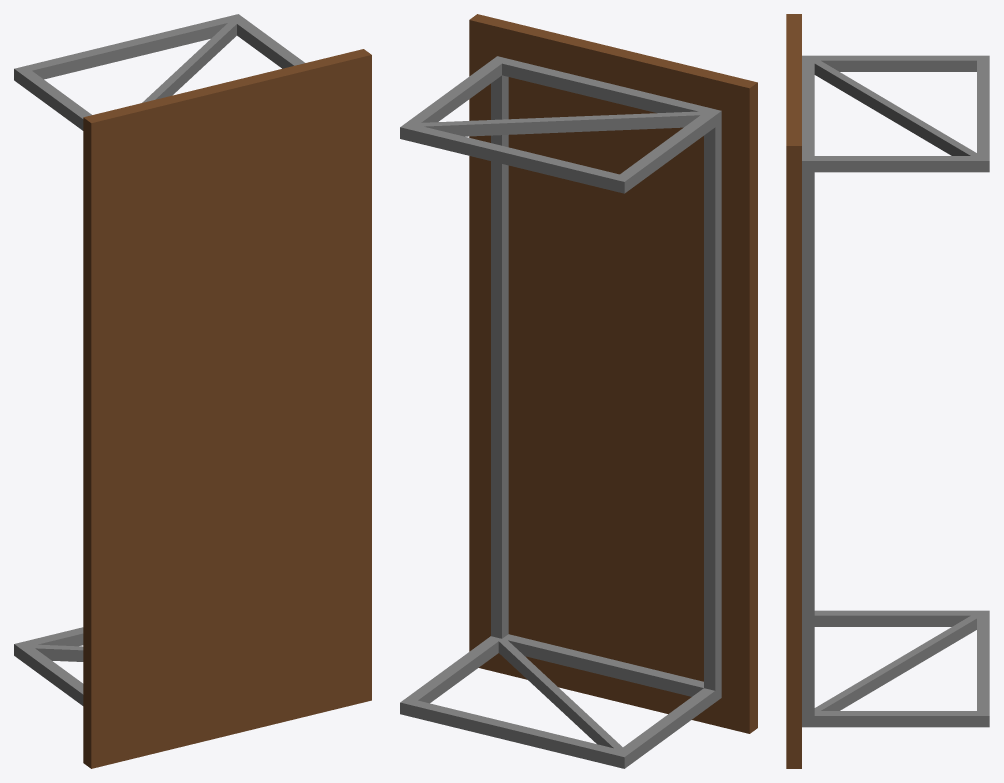
File: uploads_files_2151748_Table_1.fbx
3 renders of one model, left to right at view 1: azimuth 30°, elevation 25°; view 2: azimuth 150°, elevation 25°; view 3: azimuth 270°, elevation 25°, orthographic. The views are drawn at different scales.
Parts seen in each view (by area): view 1: Body2, Body3; view 2: Body2, Body3; view 3: Body3, Body2.
Part boxes in pixels (box(x1,y1,x2,y2)): Body2: box(83, 49, 371, 768); Body3: box(14, 14, 304, 705); Body2: box(469, 14, 757, 733); Body3: box(400, 56, 721, 768); Body3: box(802, 55, 989, 727); Body2: box(786, 14, 801, 768).
Size of the model in its own units: 50 by 110 by 32.5.
